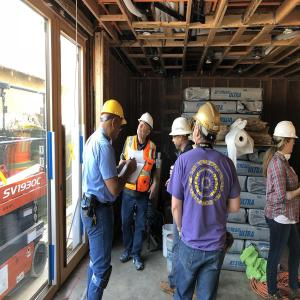white: (274, 120, 297, 157), (170, 118, 191, 151), (136, 113, 155, 140)
yellow: (194, 104, 223, 148), (100, 100, 125, 141)
